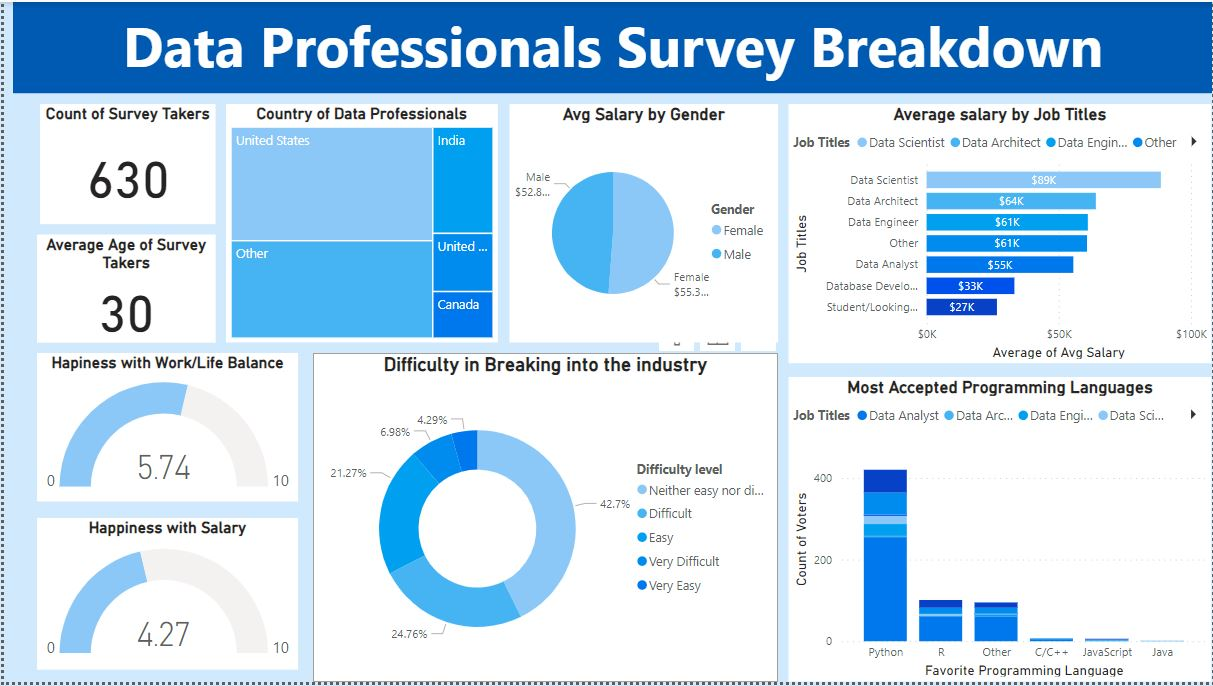

This screenshot's page, from the dashboard's own definition file:
{"tool":"powerbi","page":{"name":"Page 1","canvas":[1280,720],"ordinal":0},"visuals":[{"type":"textbox","box":[9.5,0,1271.5,97],"z":0},{"type":"card","title":"Count of Survey Takers","fields":{"Values":["Count(Data Professional Survey.Unique ID)"]},"box":[38.1,108.1,186,127.2],"z":1000},{"type":"card","title":"Average Age of Survey Takers","fields":{"Values":["Avg(Data Professional Survey.Q10 - Current Age)"]},"box":[35,246.4,189.1,114.4],"z":2000},{"type":"barChart","title":"Average salary by Job Titles","fields":{"Category":["Data Professional Survey.Q1 - Which Title Best Fits your Current Role?.1"],"Series":["Data Professional Survey.Q1 - Which Title Best Fits your Current Role?.1"],"Y":["Avg(Data Professional Survey.Avg Salary)"]},"box":[831.3,108.1,448.2,275],"z":3000},{"type":"columnChart","title":"Most Accepted Programming Languages","fields":{"Category":["Data Professional Survey.Q5 - Favorite Programming Language.1"],"Y":["CountNonNull(Data Professional Survey.Unique ID)"],"Series":["Data Professional Survey.Q1 - Which Title Best Fits your Current Role?.1"]},"box":[831.3,397.4,448.2,322.6],"z":4000},{"type":"treemap","title":"Country of Data Professionals","fields":{"Values":["CountNonNull(Data Professional Survey.Q11 - Which Country do you live in?.1)"],"Group":["Data Professional Survey.Q11 - Which Country do you live in?.1"]},"box":[235.2,108.1,287.7,252.7],"z":5000},{"type":"gauge","title":"Hapiness with Work/Life Balance","fields":{"MinValue":["Min(Data Professional Survey.Q6 - How Happy are you in your Current Position with the following? (Work/Life Balance))"],"MaxValue":["Max(Data Professional Survey.Q6 - How Happy are you in your Current Position with the following? (Work/Life Balance))"],"Y":["Avg(Data Professional Survey.Q6 - How Happy are you in your Current Position with the following? (Work/Life Balance))"]},"box":[35,371.9,276.6,157.4],"z":6000},{"type":"gauge","title":"Happiness with Salary","fields":{"Y":["Avg(Data Professional Survey.Q6 - How Happy are you in your Current Position with the following? (Salary))"],"MinValue":["Min(Data Professional Survey.Q6 - How Happy are you in your Current Position with the following? (Salary))"],"MaxValue":["Max(Data Professional Survey.Q6 - How Happy are you in your Current Position with the following? (Salary))"]},"box":[35,546.8,276.6,160.5],"z":7000},{"type":"donutChart","title":"Difficulty in Breaking into the industry","fields":{"Y":["CountNonNull(Data Professional Survey.Q1 - Which Title Best Fits your Current Role?.1)"],"Category":["Data Professional Survey.Q7 - How difficult was it for you to break into Data?"]},"box":[327.4,371.9,492.7,348.1],"z":8000},{"type":"pieChart","title":"Avg Salary by Gender","fields":{"Category":["Data Professional Survey.Q9 - Male/Female?"],"Y":["Avg(Data Professional Survey.Avg Salary)"]},"box":[535.6,108.1,284.5,252.7],"z":8001}]}

Visuals, with their boxes in screenshot pixels (x1, y1, x2, y2), scaled from the page's 1280x720 canvas onto the 1213x686 screenshot:
textbox: BBox(9, 0, 1212, 92)
"Count of Survey Takers" card: BBox(36, 103, 212, 224)
"Average Age of Survey Takers" card: BBox(33, 235, 212, 344)
"Average salary by Job Titles" barChart: BBox(788, 103, 1212, 365)
"Most Accepted Programming Languages" columnChart: BBox(788, 379, 1212, 685)
"Country of Data Professionals" treemap: BBox(223, 103, 496, 344)
"Hapiness with Work/Life Balance" gauge: BBox(33, 354, 295, 504)
"Happiness with Salary" gauge: BBox(33, 521, 295, 674)
"Difficulty in Breaking into the industry" donutChart: BBox(310, 354, 777, 685)
"Avg Salary by Gender" pieChart: BBox(508, 103, 777, 344)
